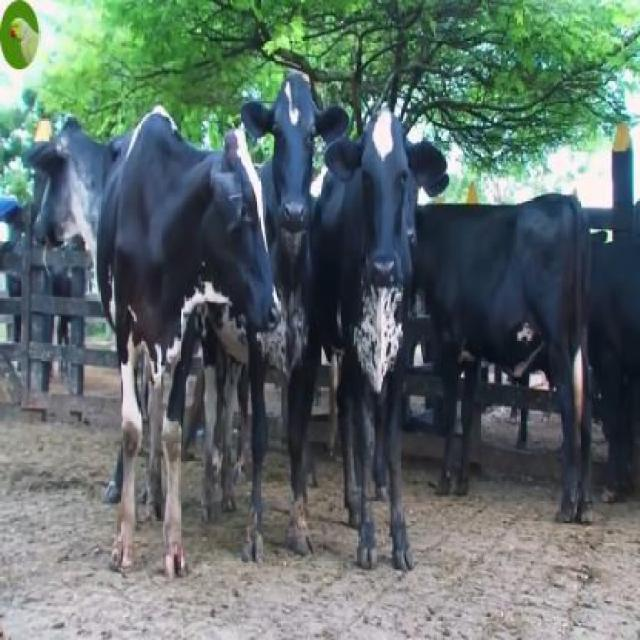Cow: (99, 103, 278, 577), (317, 101, 448, 574), (240, 76, 351, 564)
